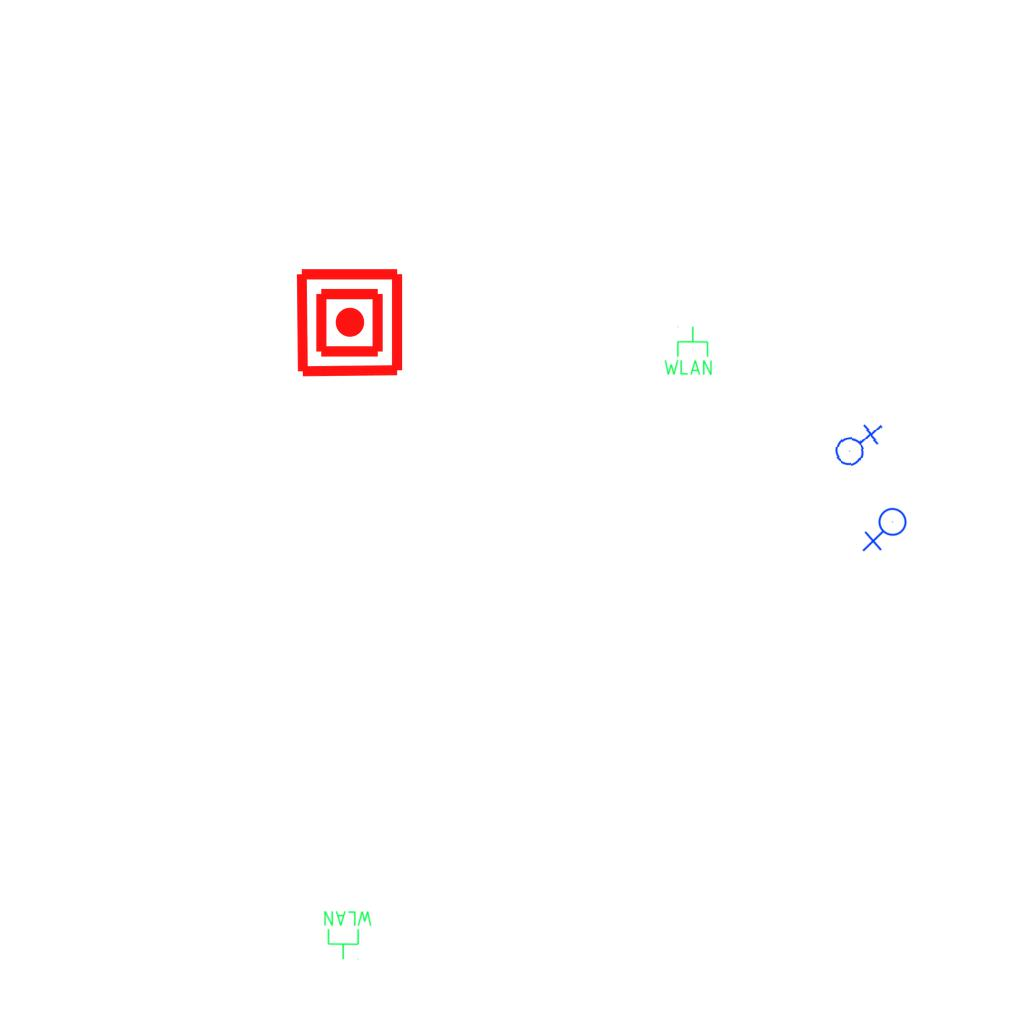Elektroanschluss_allgemein_230V_Geraeteanschlussdose_230V: (829, 417, 884, 470), (862, 507, 911, 554)
NAM-Nichtautomatischer_Melder: (293, 266, 406, 379)
WLAN: (662, 325, 714, 377), (322, 909, 374, 961)
